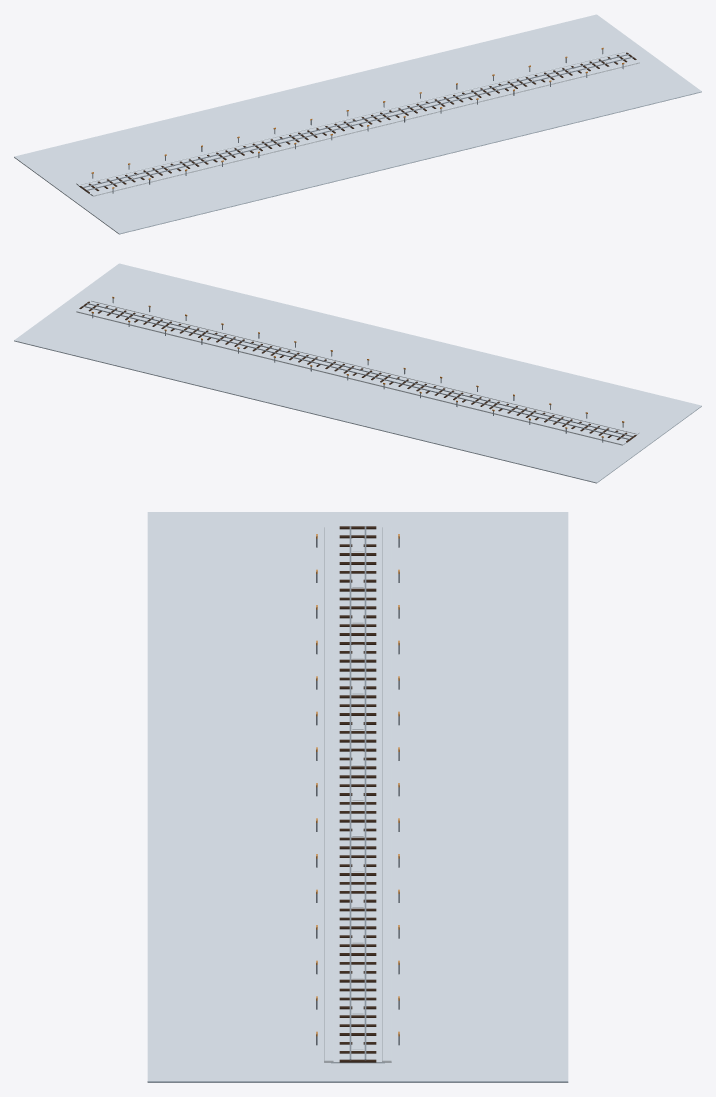
The model's file is MenuTrainTrack.fbx.
The picture shows the model from 3 angles, top to bottom: view 1: azimuth 30°, elevation 25°; view 2: azimuth 150°, elevation 25°; view 3: azimuth 270°, elevation 25°; orthographic projection. The views are drawn at different scales.
Parts seen in each view (by area): view 1: MenuTrainTrack; view 2: MenuTrainTrack; view 3: MenuTrainTrack.
Boxes of the visible parts, box(x1,y1,x2,y2) form: MenuTrainTrack: box(14, 14, 701, 234); MenuTrainTrack: box(14, 263, 701, 483); MenuTrainTrack: box(147, 512, 568, 1082).
Bounding box in the file's own units: 12800 × 155 × 4000.
